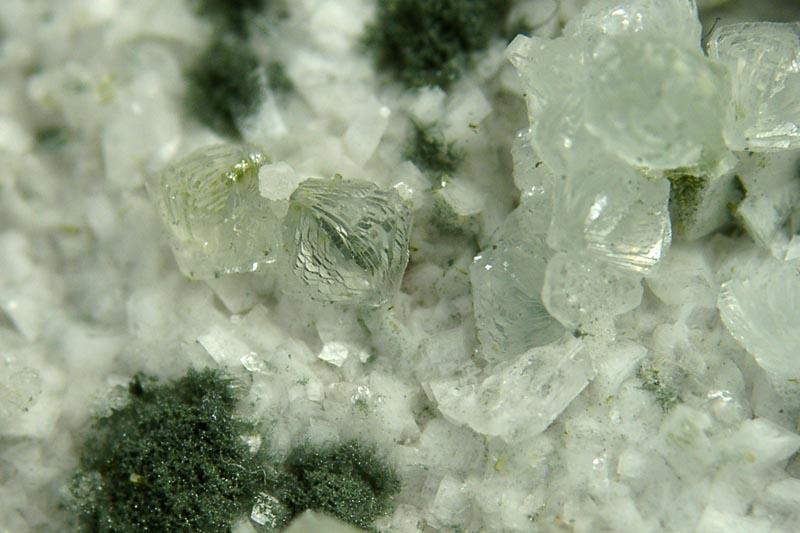prehnite: (432, 28, 728, 440), (160, 144, 413, 312)
